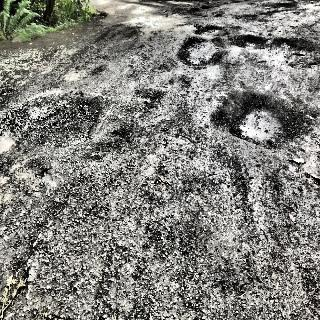pothole: (204, 85, 309, 167), (172, 24, 259, 75)
